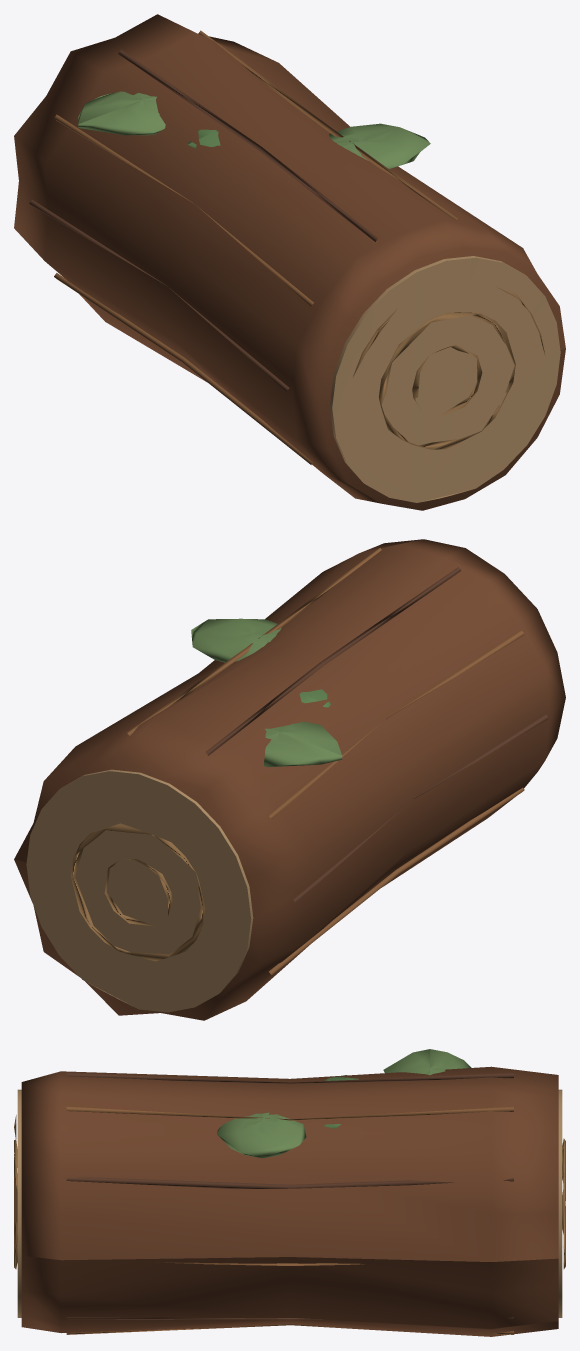
Rendered from tronco_lod.glb.
3 renders of one model, top to bottom at view 1: azimuth 30°, elevation 25°; view 2: azimuth 150°, elevation 25°; view 3: azimuth 270°, elevation 25°, orthographic. The views are drawn at different scales.
Parts seen in each view (by area): view 1: tronco; view 2: tronco; view 3: tronco.
Part boxes in pixels (x1,y1,x2,y2): tronco: (14,14,565,510); tronco: (14,539,565,1020); tronco: (14,1049,565,1336).
Size of the model in its own units: 0.4827 by 0.4849 by 0.987.
